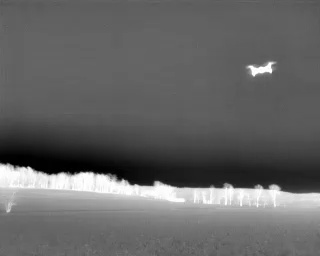DRONE: (242, 56, 281, 82)
